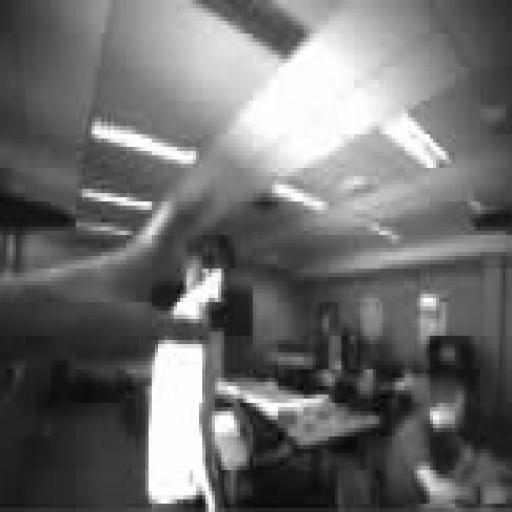human: (0, 185, 208, 360), (149, 236, 233, 511), (386, 370, 477, 507)
